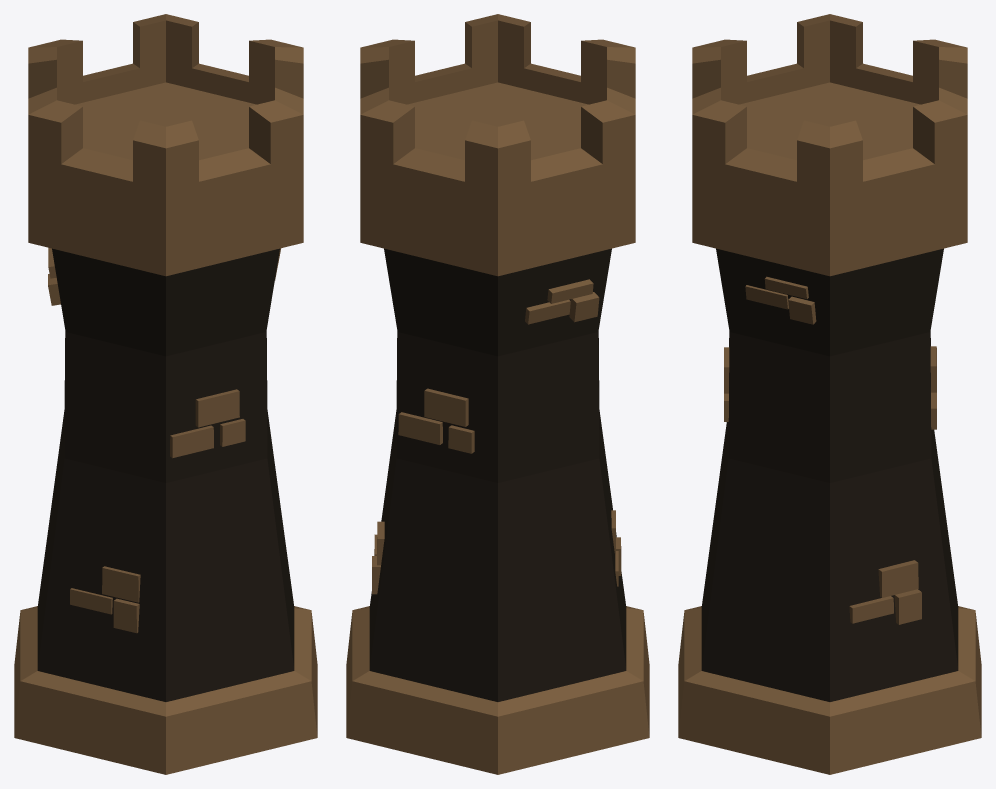
File: P_Tower_LVL2-1.FBX
The picture shows the model from 3 angles, left to right: view 1: azimuth 30°, elevation 25°; view 2: azimuth 150°, elevation 25°; view 3: azimuth 270°, elevation 25°; orthographic projection.
Visible parts, largest first — view 1: P_tower_LVL2; view 2: P_tower_LVL2; view 3: P_tower_LVL2.
Boxes of the visible parts, x1,y1,x2,y2 form: P_tower_LVL2: (14, 14, 317, 774); P_tower_LVL2: (346, 14, 649, 774); P_tower_LVL2: (678, 14, 981, 774).
Size of the model in its own units: 20.67 by 40.88 by 17.9.
